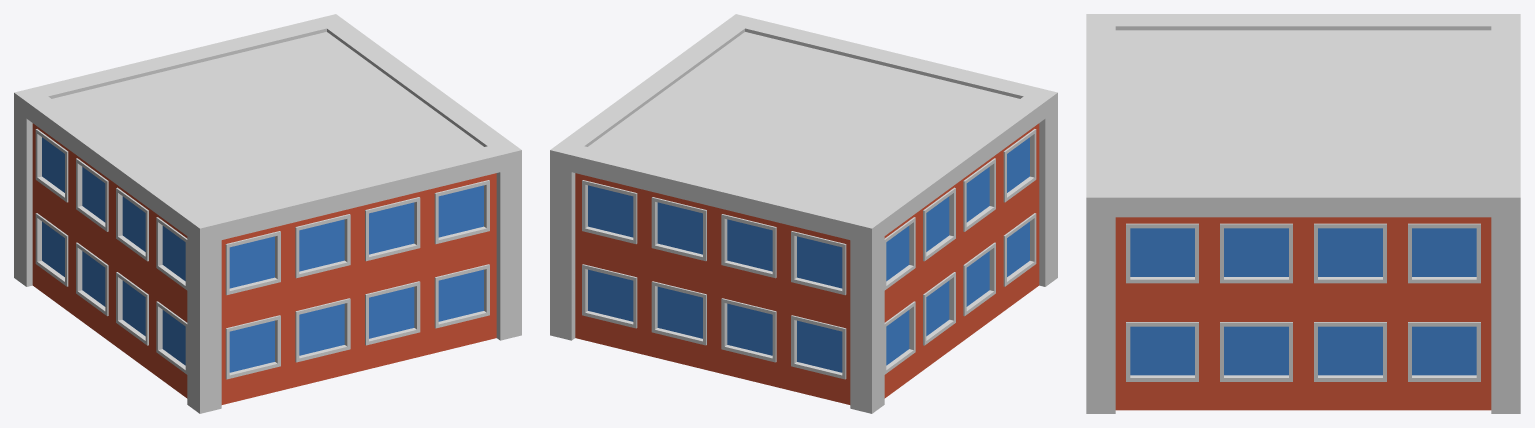
The model's file is Res_1x1_top.fbx.
3 renders of one model, left to right at view 1: azimuth 30°, elevation 25°; view 2: azimuth 150°, elevation 25°; view 3: azimuth 270°, elevation 25°, orthographic. The views are drawn at different scales.
Parts seen in each view (by area): view 1: Building_001_10x10.top; view 2: Building_001_10x10.top; view 3: Building_001_10x10.top.
Part boxes in pixels (x1,y1,x2,y2): Building_001_10x10.top: (14, 14, 521, 413); Building_001_10x10.top: (550, 14, 1057, 413); Building_001_10x10.top: (1086, 14, 1520, 413).
Bounding box in the file's own units: 1000 × 1000 × 550.
